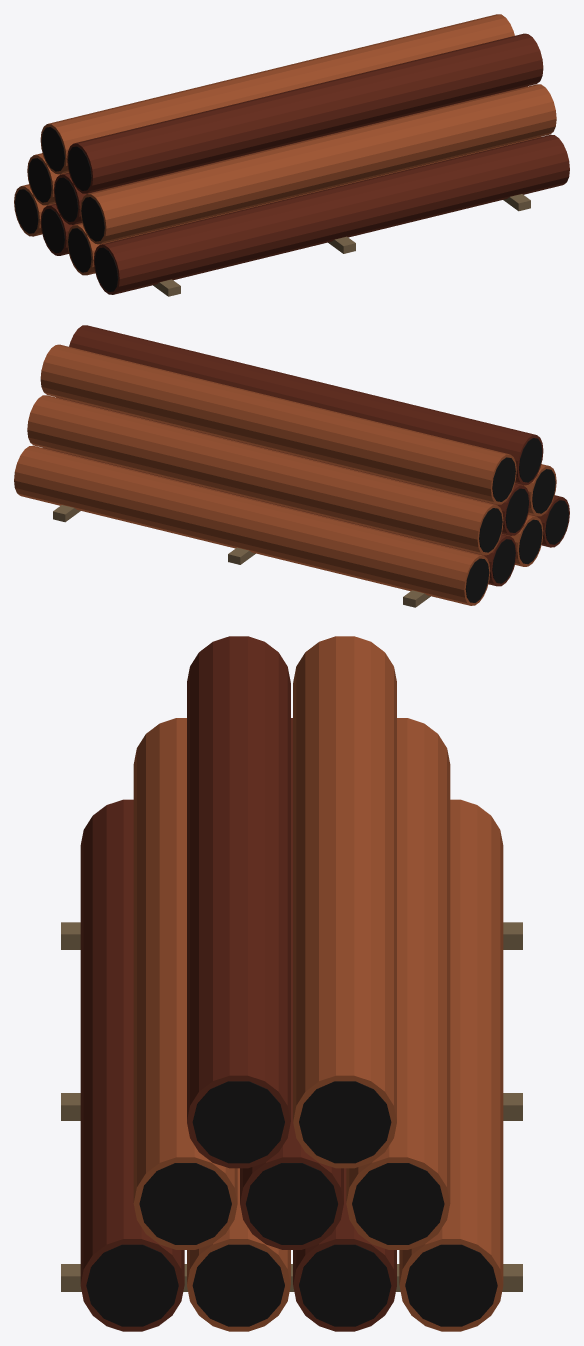
The model's file is works_pipes.glb.
3 views of the same model, one above another, from view 1: azimuth 30°, elevation 25°; view 2: azimuth 150°, elevation 25°; view 3: azimuth 270°, elevation 25° (orthographic). The views are drawn at different scales.
Parts seen in each view (by area): view 1: works_pipes; view 2: works_pipes; view 3: works_pipes.
Part boxes in pixels (bbox=[...]): works_pipes: bbox=[14, 14, 569, 296]; works_pipes: bbox=[14, 325, 569, 607]; works_pipes: bbox=[61, 636, 522, 1331].
Size of the model in its own units: 9.02 by 2.47 by 4.
